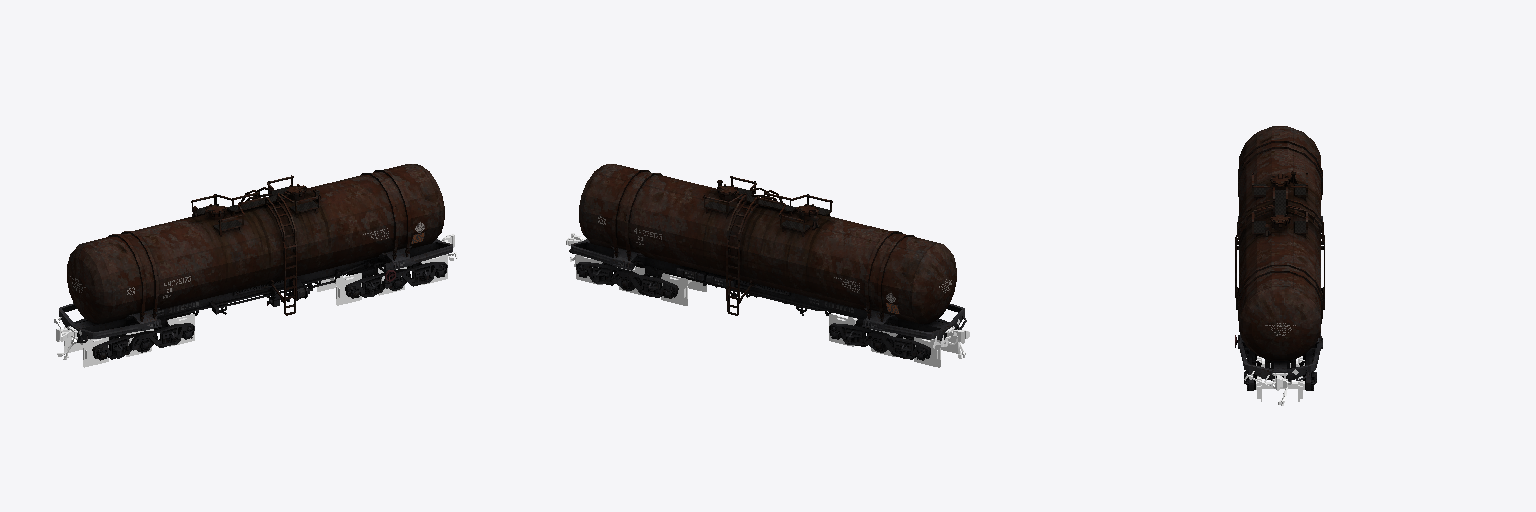
3 views of the same model, side by side, from view 1: azimuth 30°, elevation 25°; view 2: azimuth 150°, elevation 25°; view 3: azimuth 270°, elevation 25° (orthographic).
Visible parts, largest first — view 1: FRAME_mvp_15-865, BOGEY_FRONT_mvp_15-865, BOGEY_REAR_mvp_15-865, BOGEY_REAR_WHEEL_1_mvp_15-865, BOGEY_FRONT_WHEEL_1_mvp_15-865; view 2: FRAME_mvp_15-865, BOGEY_REAR_mvp_15-865, BOGEY_FRONT_mvp_15-865, BOGEY_REAR_WHEEL_1_mvp_15-865, BOGEY_FRONT_WHEEL_1_mvp_15-865; view 3: FRAME_mvp_15-865, BOGEY_REAR_mvp_15-865.
Boxes of the visible parts, <box> form: FRAME_mvp_15-865: <box>55,164,454,344</box>; BOGEY_FRONT_mvp_15-865: <box>74,318,194,360</box>; BOGEY_REAR_mvp_15-865: <box>343,262,447,298</box>; BOGEY_REAR_WHEEL_1_mvp_15-865: <box>317,273,361,305</box>; BOGEY_FRONT_WHEEL_1_mvp_15-865: <box>64,327,108,367</box>; FRAME_mvp_15-865: <box>566,164,969,346</box>; BOGEY_REAR_mvp_15-865: <box>576,262,678,298</box>; BOGEY_FRONT_mvp_15-865: <box>829,319,949,360</box>; BOGEY_REAR_WHEEL_1_mvp_15-865: <box>661,273,706,305</box>; BOGEY_FRONT_WHEEL_1_mvp_15-865: <box>914,327,959,367</box>; FRAME_mvp_15-865: <box>1235,126,1324,390</box>; BOGEY_REAR_mvp_15-865: <box>1244,347,1316,390</box>.
Bounding box in the file's own units: 17.56 × 5.1 × 3.48.
6 materials, 4 textured.